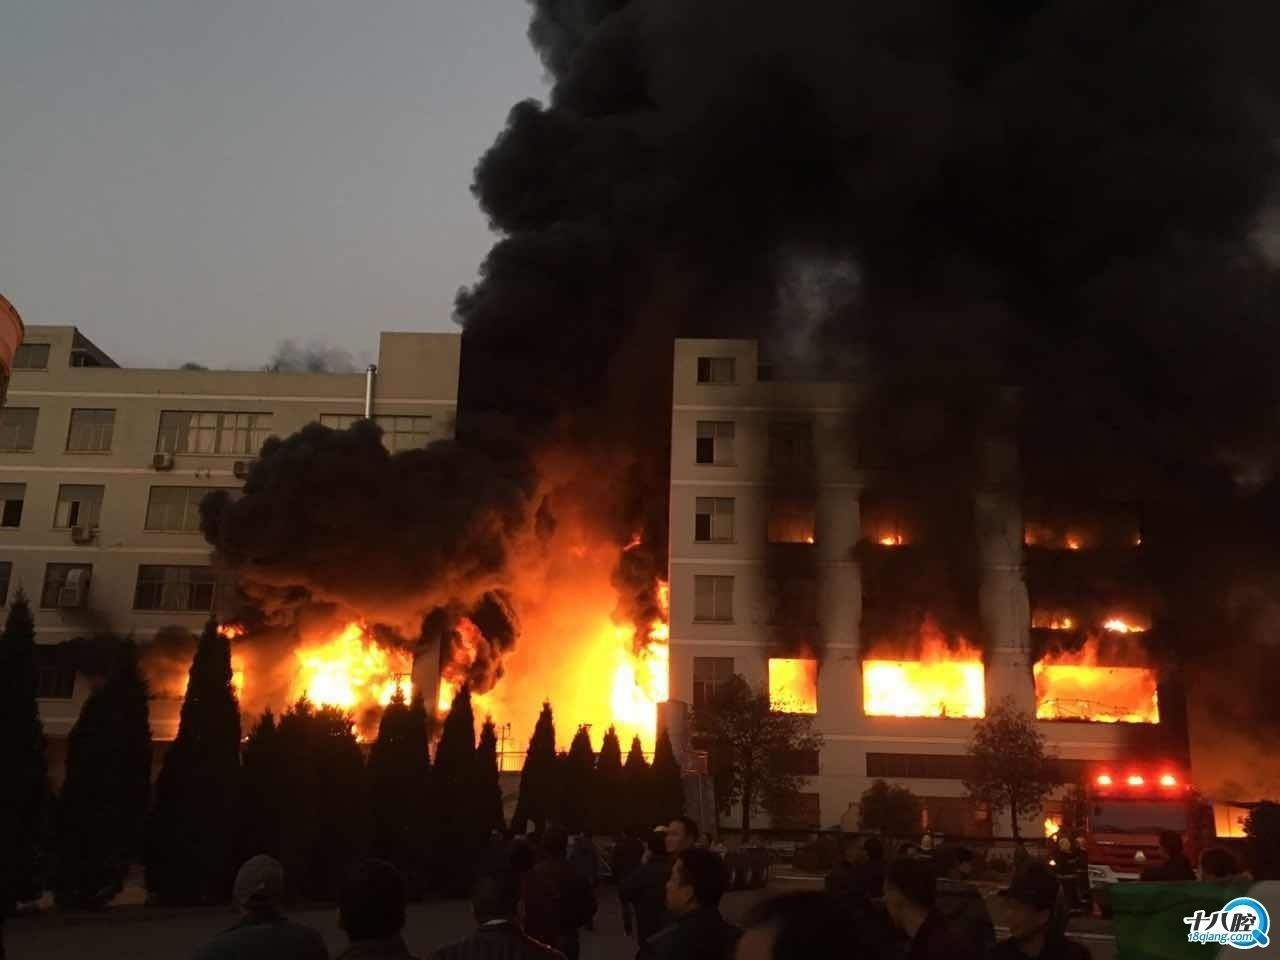fire: (267, 613, 486, 738), (1023, 541, 1162, 726), (571, 579, 675, 762), (858, 633, 986, 719), (768, 653, 816, 717), (872, 523, 906, 547)
